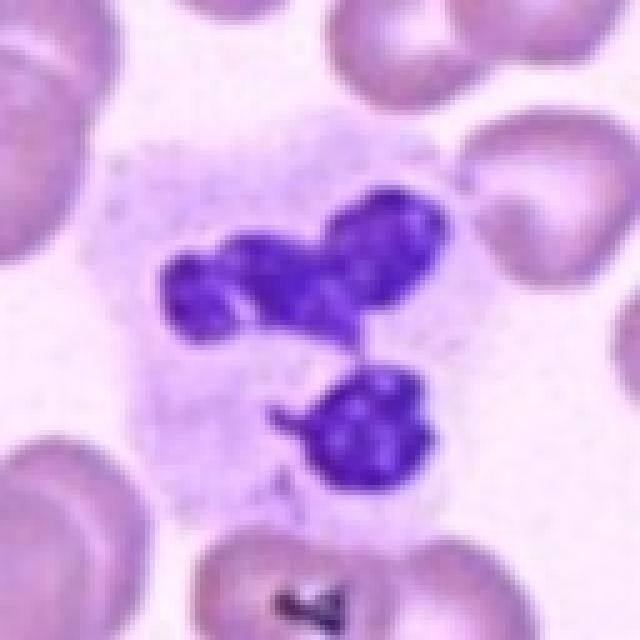neutro: (89, 78, 545, 554)
